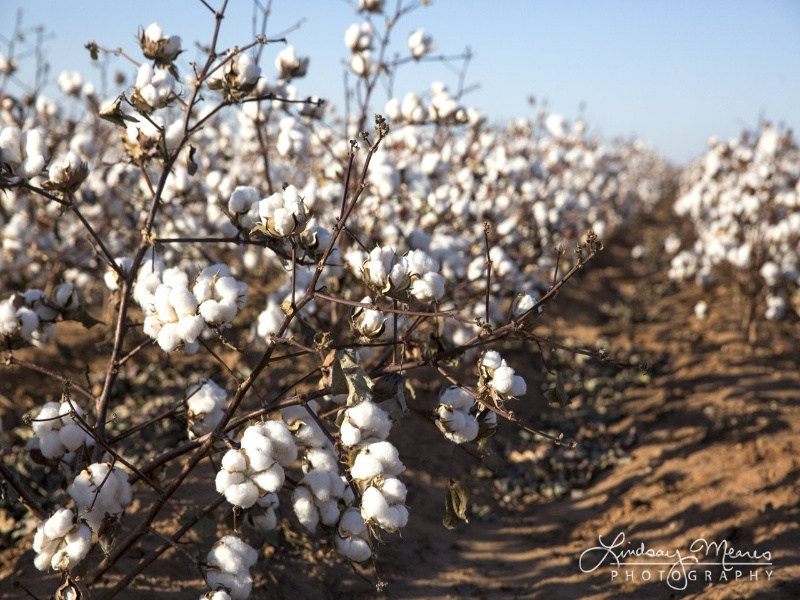cotton: (2, 22, 531, 594)
